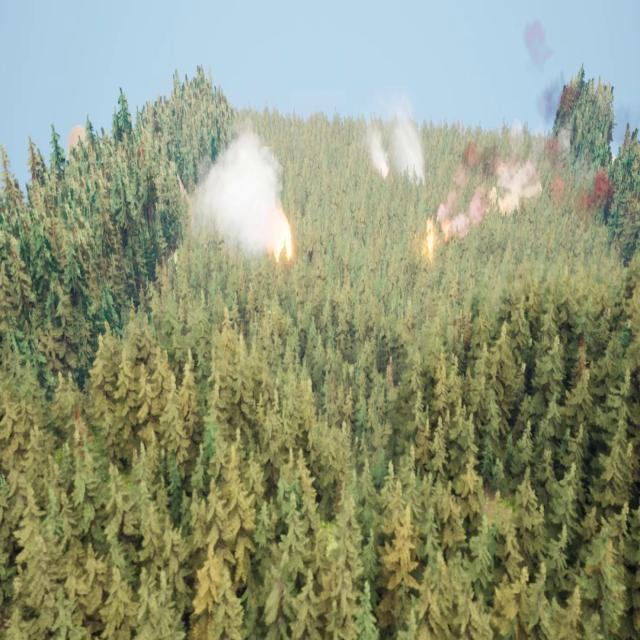fire: (266, 214, 295, 260), (419, 222, 442, 260)
smoke: (191, 131, 286, 251), (438, 136, 539, 248), (392, 111, 427, 196), (367, 128, 392, 181)
